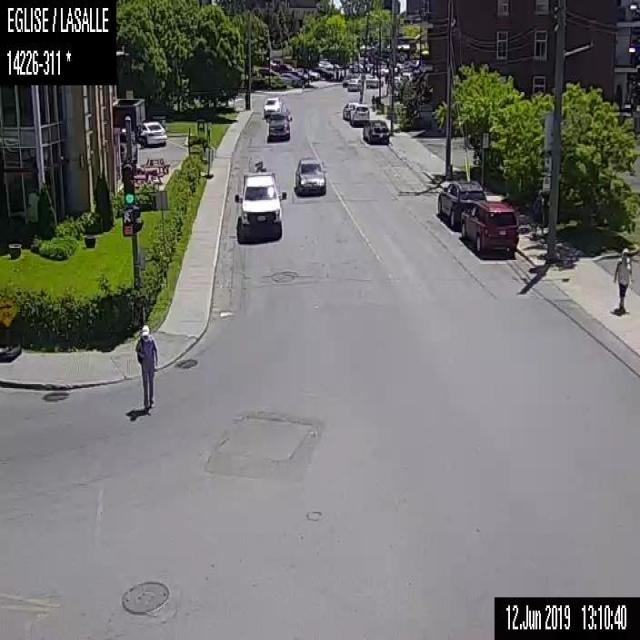pedestrian: (134, 324, 160, 411), (612, 247, 633, 313)
vehicle: (460, 198, 520, 257), (233, 170, 286, 233), (436, 178, 486, 228), (294, 156, 326, 195), (268, 108, 293, 139), (362, 118, 390, 145), (138, 120, 165, 143), (262, 96, 281, 118), (351, 102, 369, 124), (282, 72, 302, 84), (342, 101, 354, 117), (348, 78, 362, 90), (365, 76, 379, 87), (306, 68, 318, 79)
